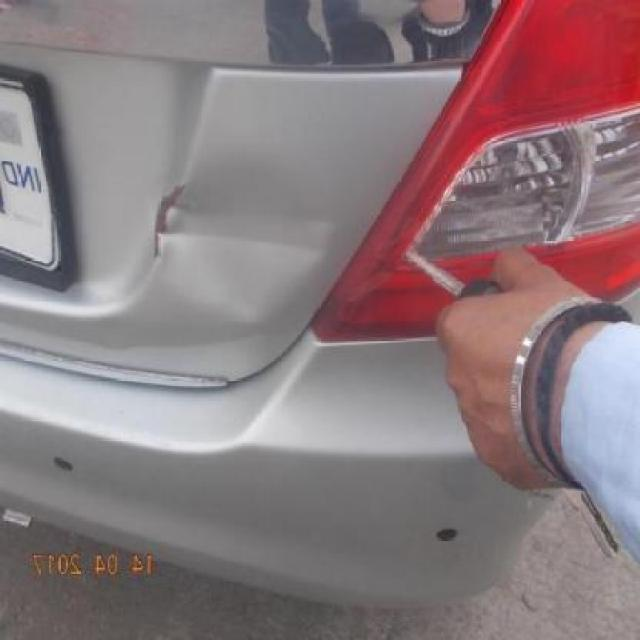damage: (156, 151, 334, 319)
